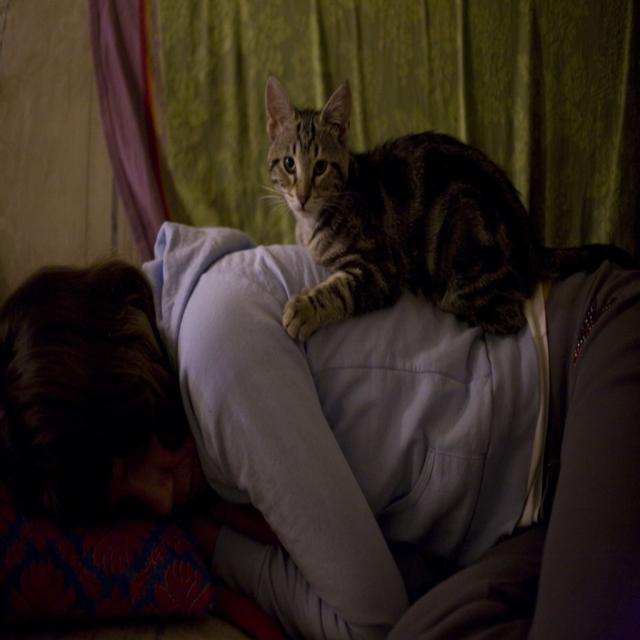Cat: (263, 69, 639, 340)
